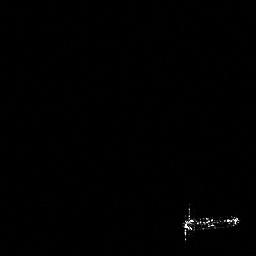ship: (183, 203, 240, 242)
